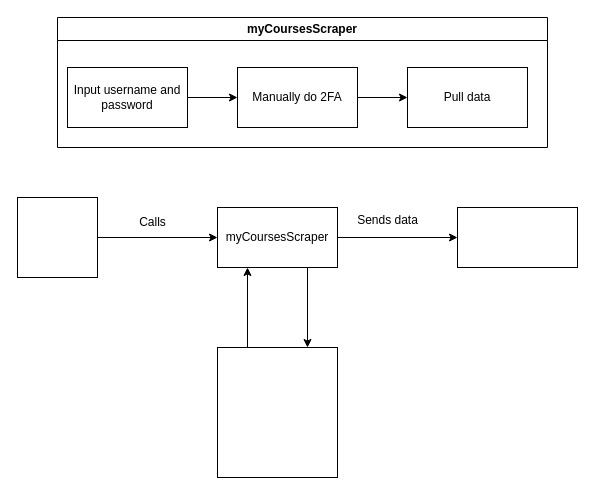
This 595x495 diagram has some shape labels left out. The shapes that lost their labels are listed below. From the top down, each one's box as (x1, y1, x2, y2) in pixels, then its label:
(16, 196, 98, 278): Button Clicked from google sheets
(456, 206, 578, 268): Google sheets new row
(216, 346, 338, 478): Data: Course Due date Name Notes
